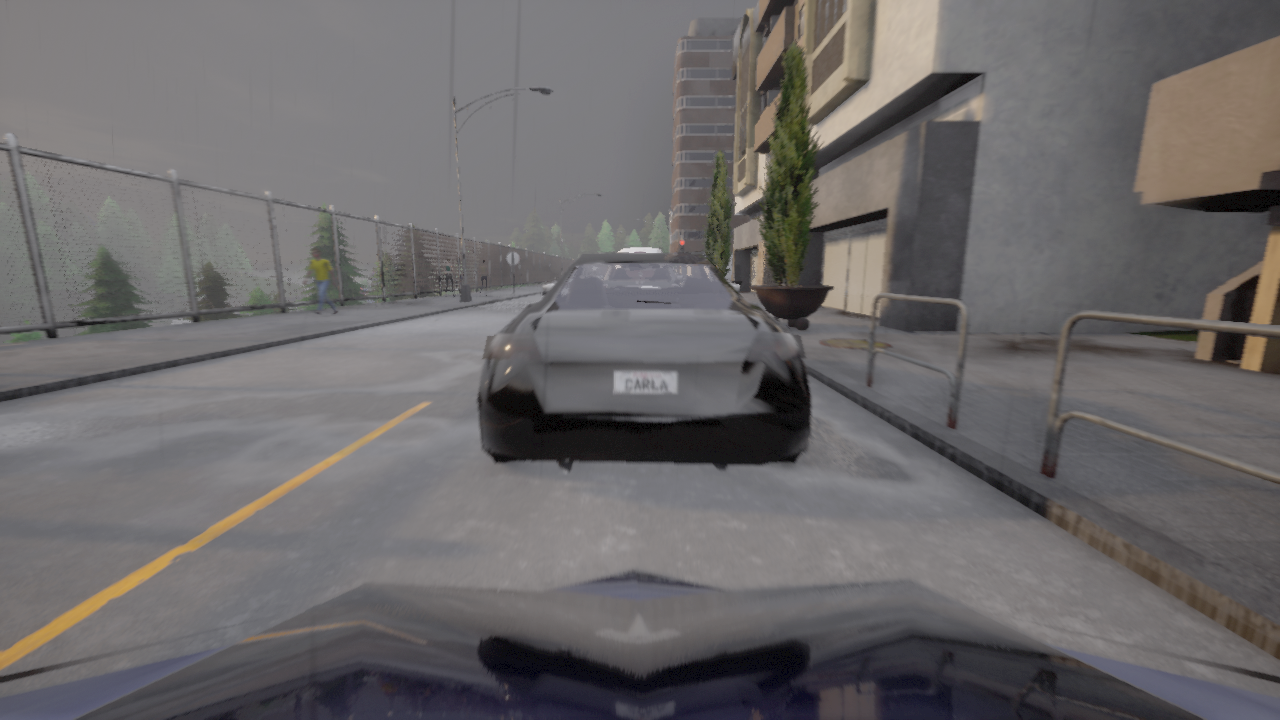cyclist: (0, 569, 1279, 719), (476, 253, 811, 472), (618, 247, 662, 252)
pedestrian: (303, 248, 338, 314), (443, 258, 455, 296), (478, 259, 489, 296), (460, 276, 468, 284)
